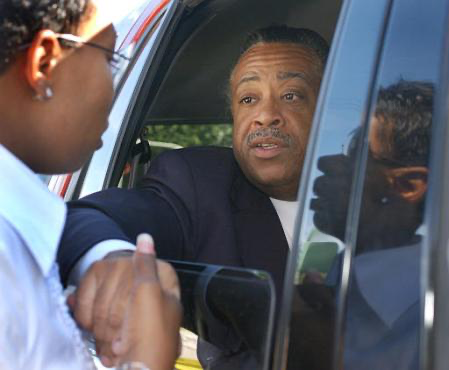Face: (226, 49, 333, 194), (41, 15, 134, 177)
